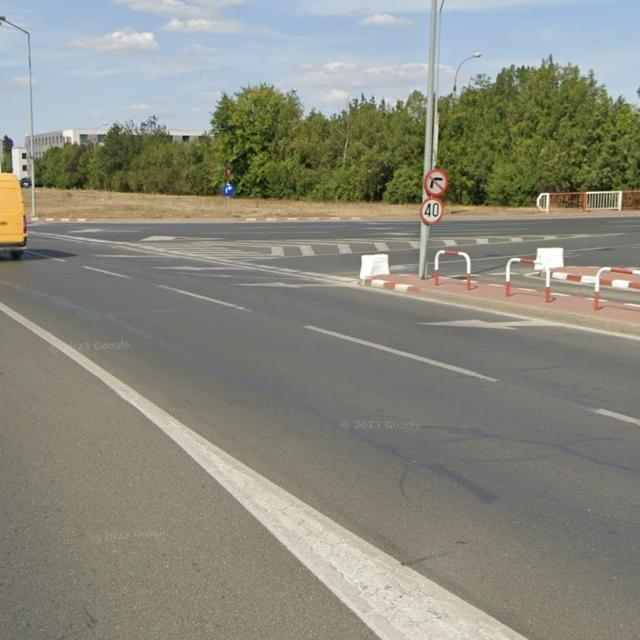forb_speed_over_40: (421, 197, 445, 224)
prio_give_way: (225, 166, 234, 181)
